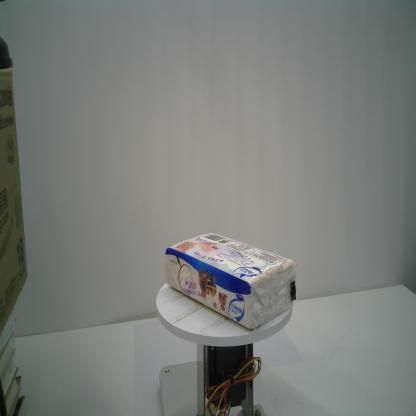Tissue: (164, 232, 297, 330)
